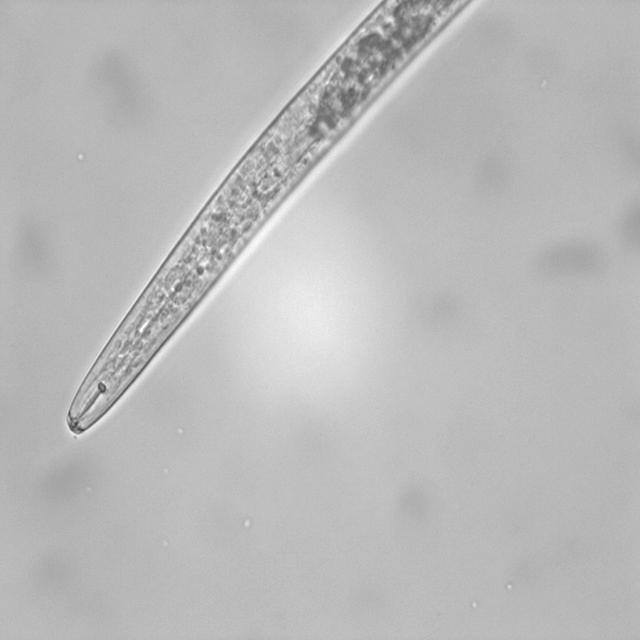Pratylenchus: (54, 0, 471, 440)
